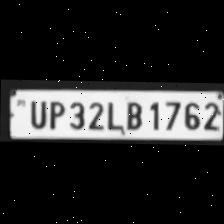1: (144, 99, 160, 130)
2: (200, 99, 222, 130), (85, 98, 105, 130)
3: (65, 98, 85, 129)
6: (180, 99, 200, 130)
7: (159, 98, 179, 130)
B: (122, 99, 144, 130)
L: (103, 98, 121, 130)
P: (44, 98, 64, 130)
U: (24, 97, 46, 128)
